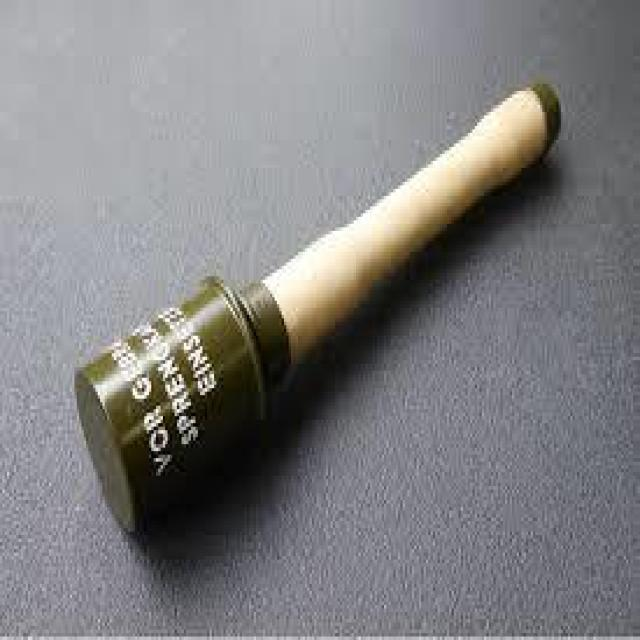grenade: (73, 76, 562, 537)
